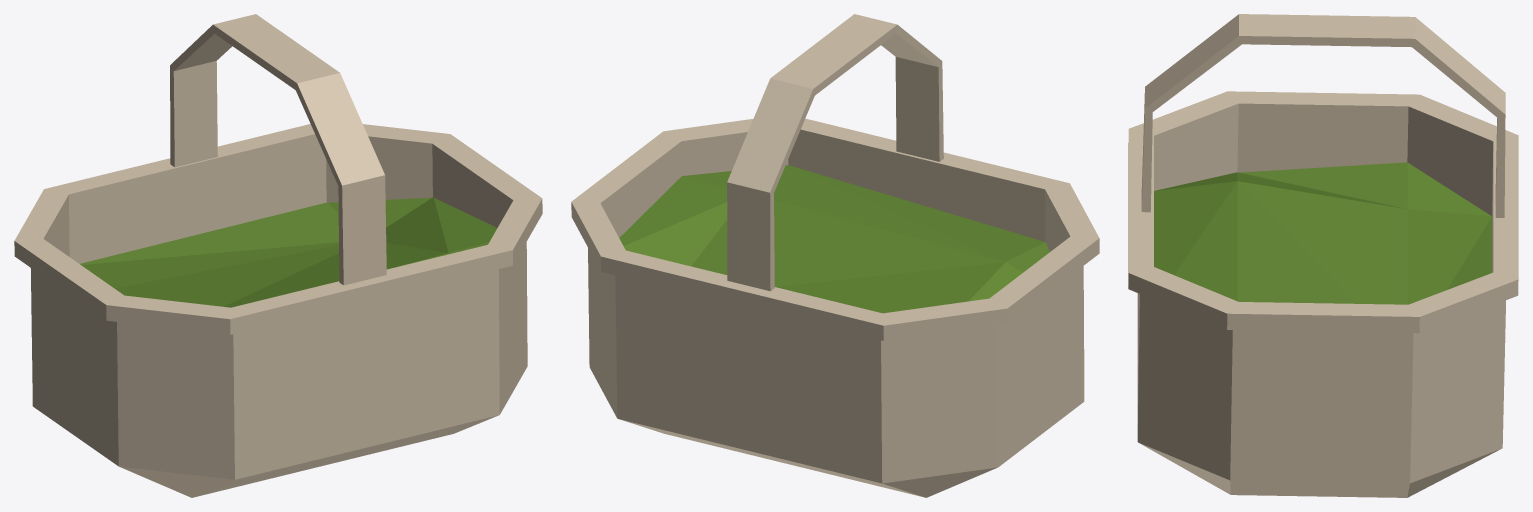
File: Basket_2.fbx
The picture shows the model from 3 angles, left to right: view 1: azimuth 30°, elevation 25°; view 2: azimuth 150°, elevation 25°; view 3: azimuth 270°, elevation 25°; orthographic projection. The views are drawn at different scales.
Parts seen in each view (by area): view 1: Basket_2; view 2: Basket_2; view 3: Basket_2.
Part boxes in pixels (x1=…): Basket_2: x1=14, y1=14, x2=542, y2=497; Basket_2: x1=571, y1=14, x2=1099, y2=497; Basket_2: x1=1128, y1=14, x2=1518, y2=497.
Bounding box in the file's own units: 44.13 × 32.65 × 37.51.
